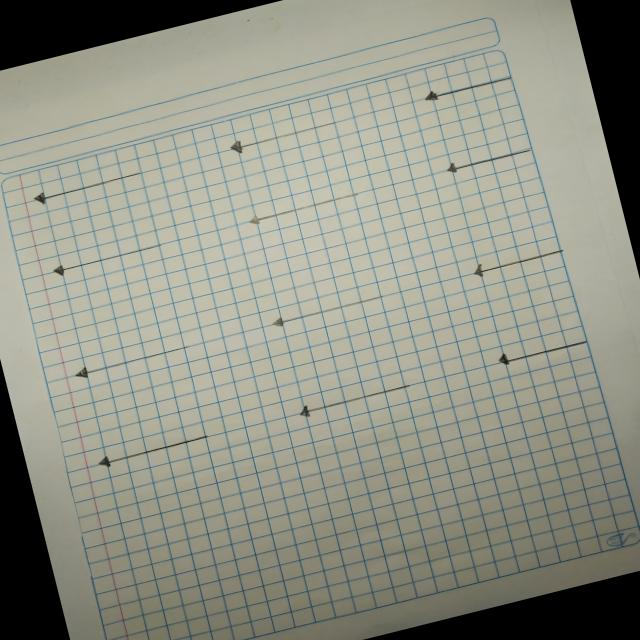arrow_line_left: (256, 284, 397, 338), (215, 109, 352, 164), (18, 161, 156, 215), (286, 372, 422, 426), (68, 335, 204, 386), (88, 424, 221, 476), (238, 183, 374, 232), (41, 234, 172, 282), (486, 326, 600, 374), (461, 237, 577, 283), (415, 67, 523, 111), (439, 138, 540, 182)
